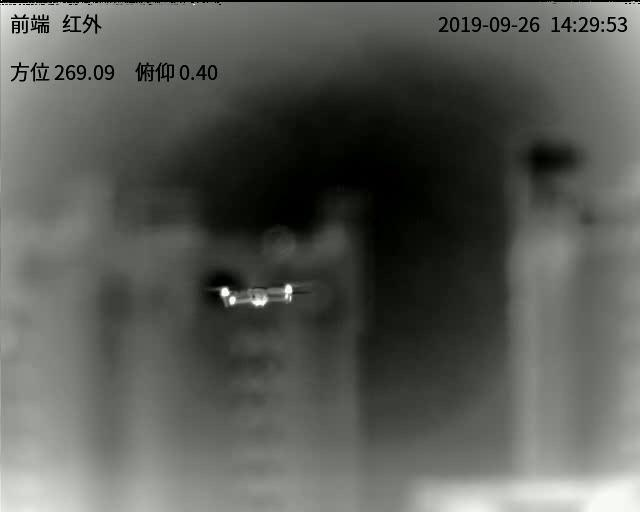DRONE: (219, 283, 295, 310)
